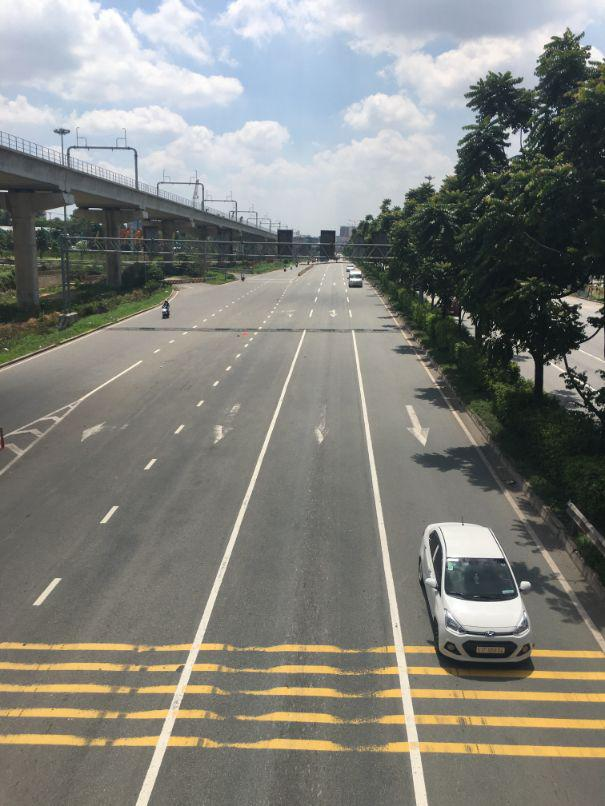car: (415, 521, 538, 676), (347, 271, 363, 290)
